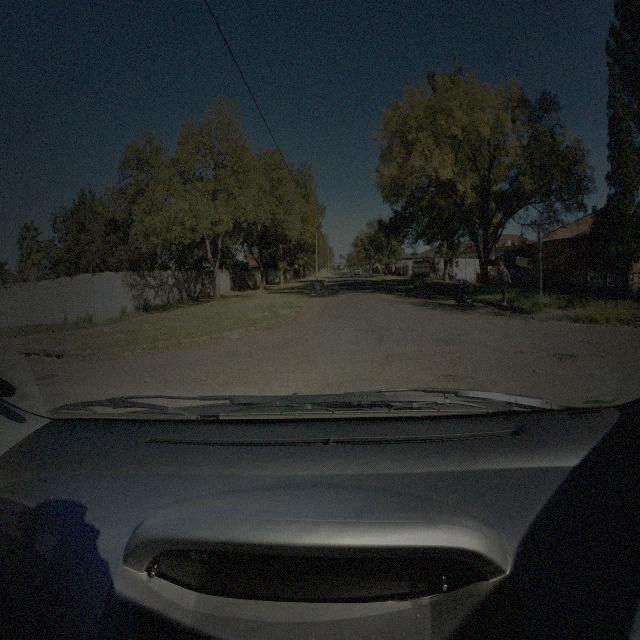pothole: (547, 351, 578, 366), (433, 350, 460, 365), (437, 374, 467, 385), (579, 338, 594, 348)
